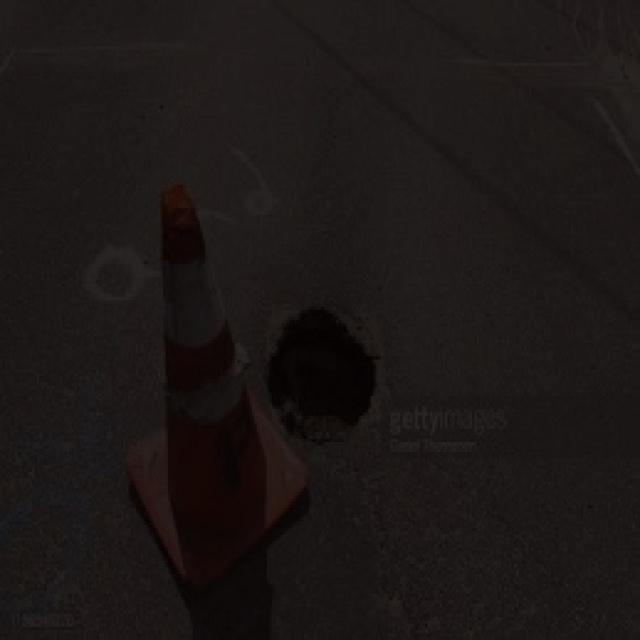Pothole: (256, 287, 386, 451)
